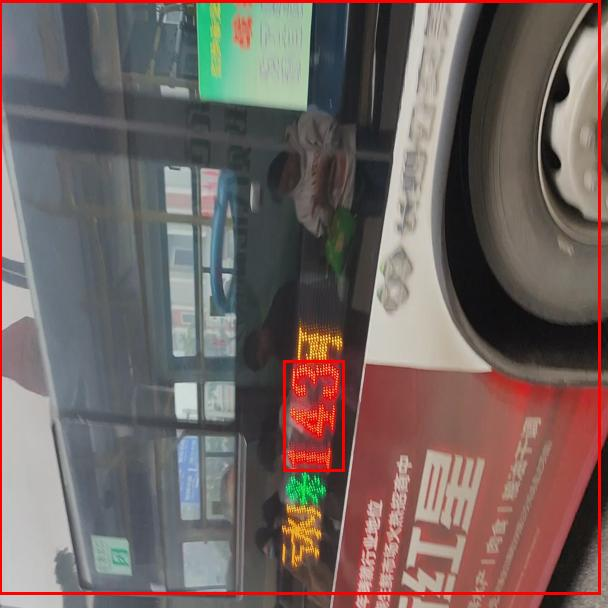screen: (283, 360, 344, 471)
